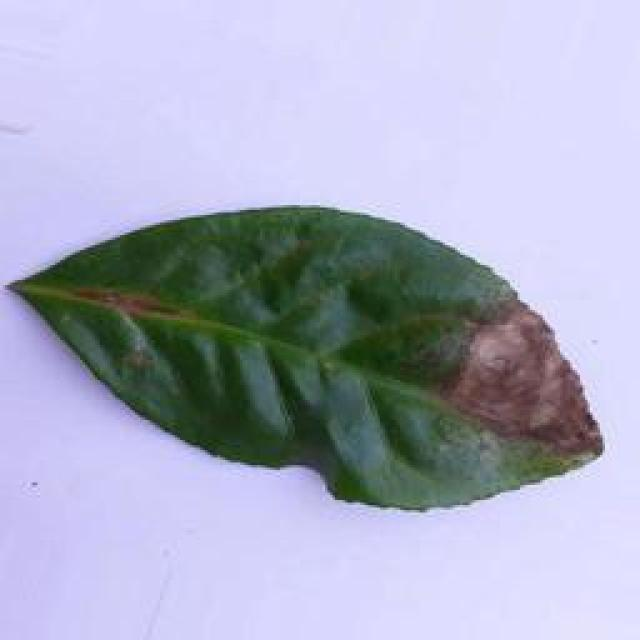Gray Blight: (5, 202, 606, 513)
